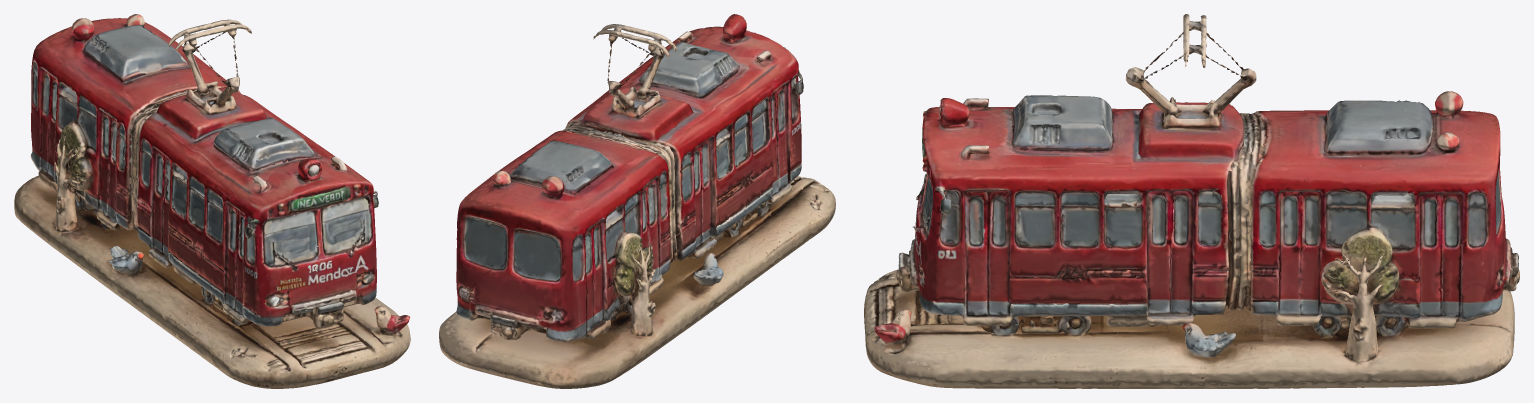
File: tranvia.glb
The picture shows the model from 3 angles, left to right: view 1: azimuth 30°, elevation 25°; view 2: azimuth 150°, elevation 25°; view 3: azimuth 270°, elevation 25°; orthographic projection. The views are drawn at different scales.
Parts seen in each view (by area): view 1: model; view 2: model; view 3: model.
Boxes of the visible parts, box(x1,y1,x2,y2) form: model: box(14, 14, 410, 388); model: box(439, 14, 835, 388); model: box(864, 14, 1519, 388).
Bounding box in the file's own units: 0.7635 × 0.9947 × 1.89.
Materials: 1 (1 with a texture image).
